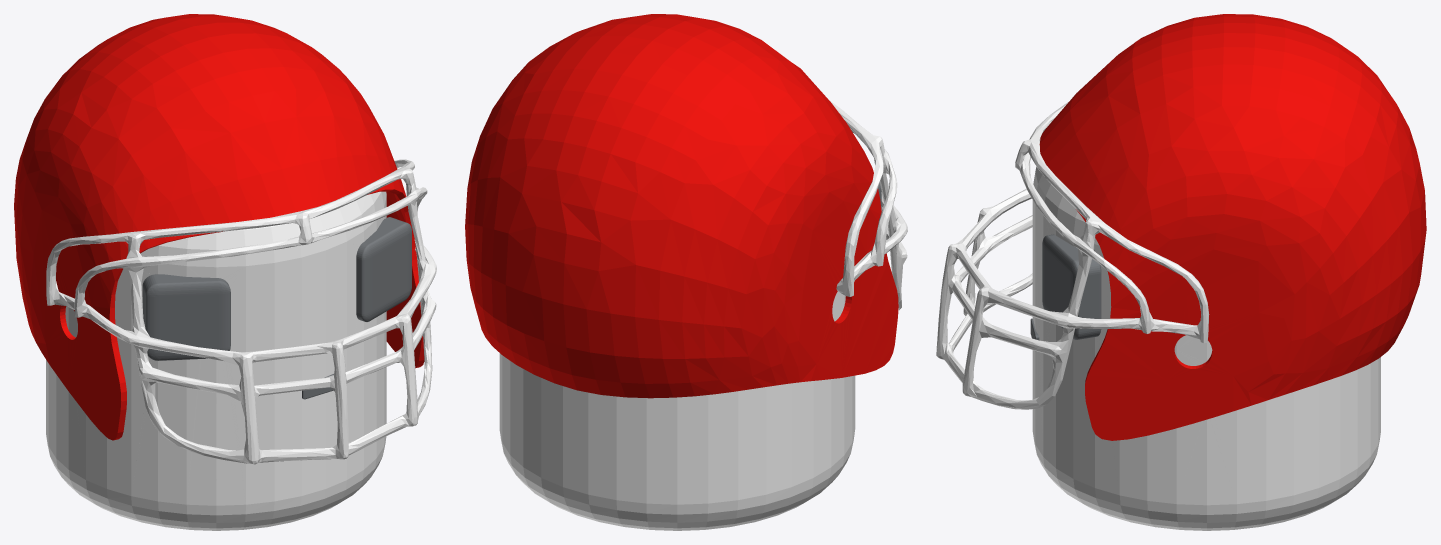
File: player_red.glb
3 renders of one model, left to right at view 1: azimuth 30°, elevation 25°; view 2: azimuth 150°, elevation 25°; view 3: azimuth 270°, elevation 25°, orthographic. The views are drawn at different scales.
Parts seen in each view (by area): view 1: obj_0; view 2: obj_0; view 3: obj_0.
Boxes of the visible parts, x1,y1,x2,y2 form: obj_0: [14, 14, 436, 530]; obj_0: [465, 14, 907, 530]; obj_0: [936, 14, 1426, 530].
Bounding box in the file's own units: 5.75 × 6.95 × 7.04.
